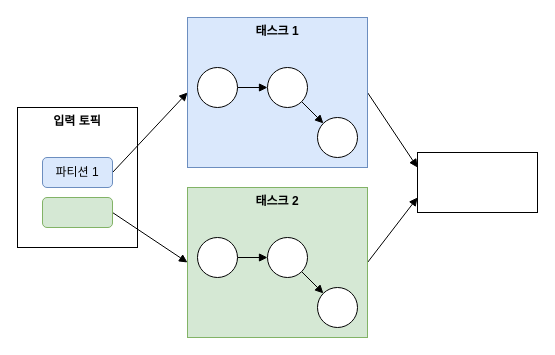
Some shapes in this 555 by 355 pixel diagram are drawn without their labels. Each missing label, with the centre of its shape:
출력 토픽: the point at 477,182
파티션 2: the point at 77,212
